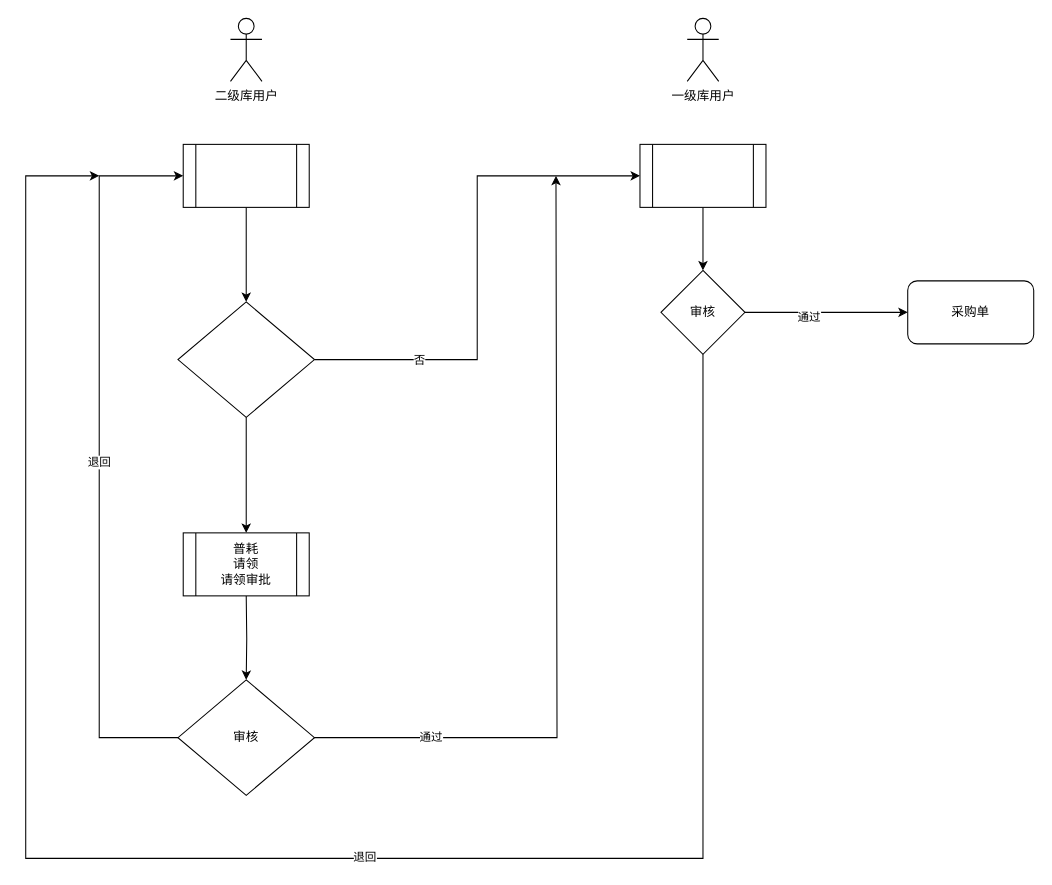
Some shapes in this 1052 by 885 pixel diagram are drawn without their labels. The box of each missing label's shape, as (x1, y1, x2, y2) in pixels:
普耗 请领 物资请领: (182, 143, 309, 207)
科室设置 是否启用请领单/补货单科室审核: (177, 301, 314, 417)
采购管理 科室订单: (639, 143, 766, 207)
